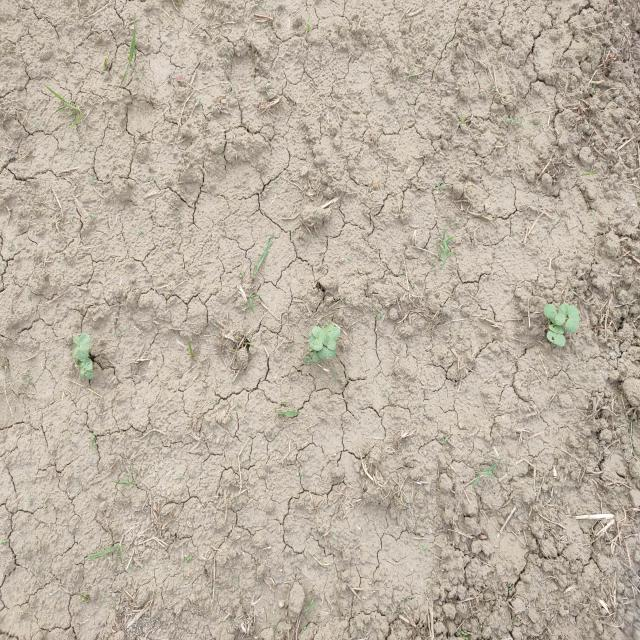seedling_s2: (565, 305, 580, 333), (77, 333, 91, 362), (555, 303, 569, 326), (547, 331, 566, 347), (544, 304, 557, 325), (320, 334, 337, 350), (308, 333, 323, 351), (317, 346, 336, 360), (83, 358, 94, 380), (325, 327, 340, 340), (72, 334, 79, 358), (549, 324, 565, 334), (322, 323, 334, 334), (312, 326, 322, 339), (304, 356, 315, 366), (310, 351, 319, 362), (79, 362, 84, 378)
